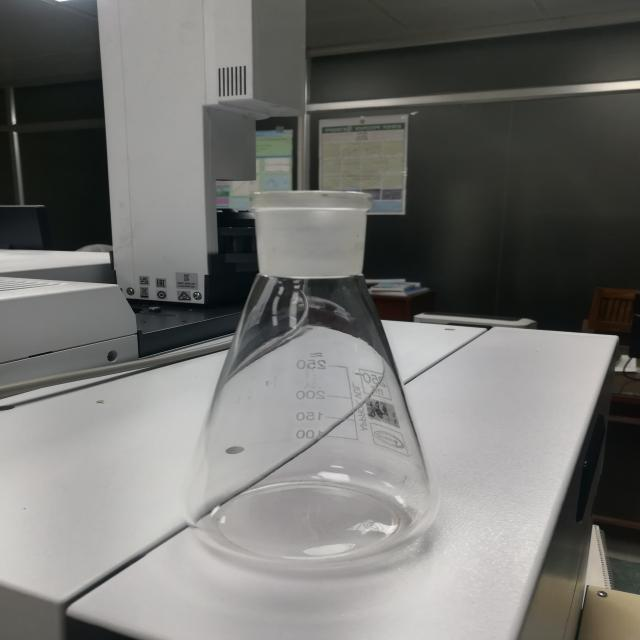Conical_Flask: (153, 134, 483, 591)
